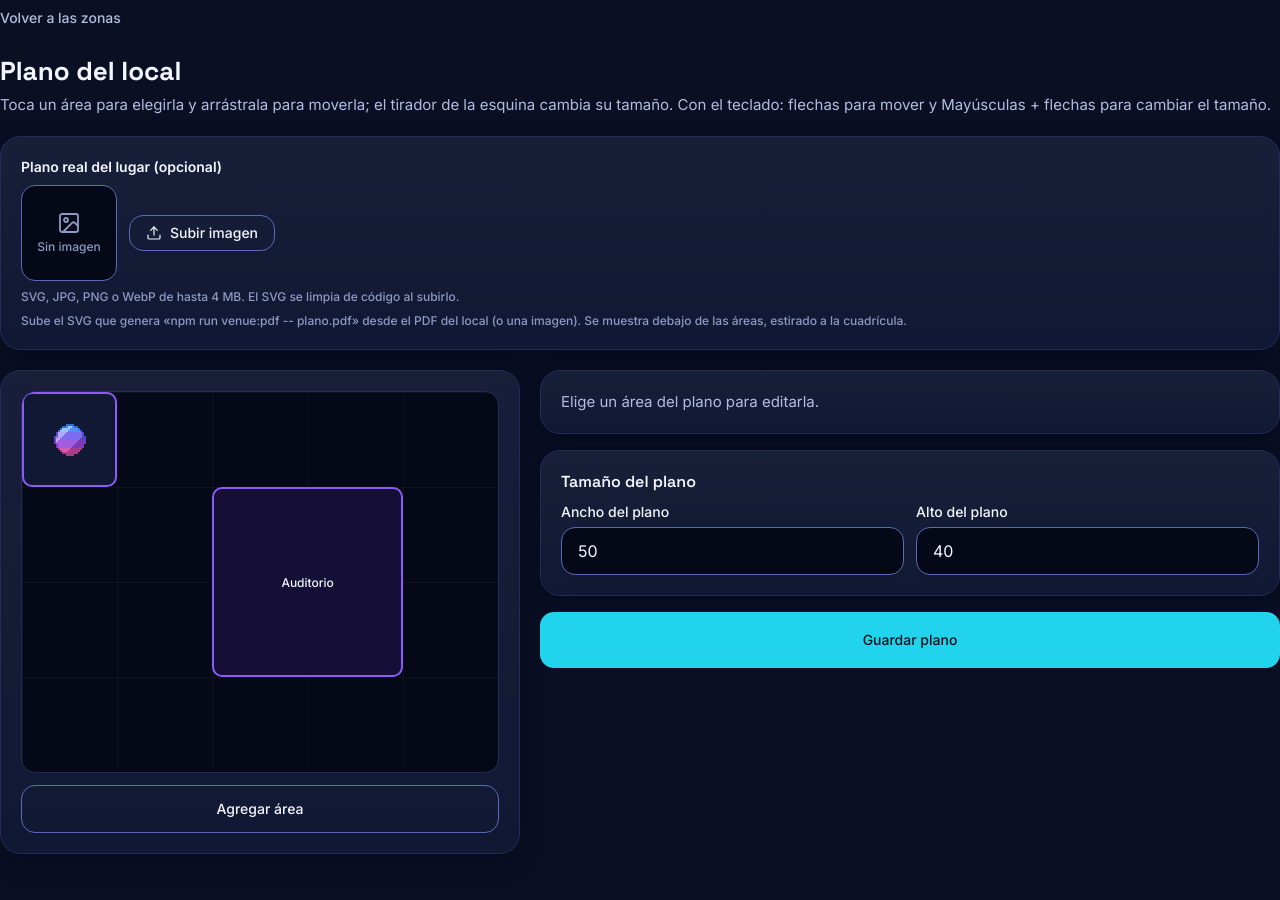
Scenario: VenueEditor › adds a stand in a free spot and chooses it, and removes an area
This screenshot has width=1280, height=900.
Click the button "Agregar área": click(260, 809) x1=21 y1=785 x2=499 y2=833
(page scrolled)
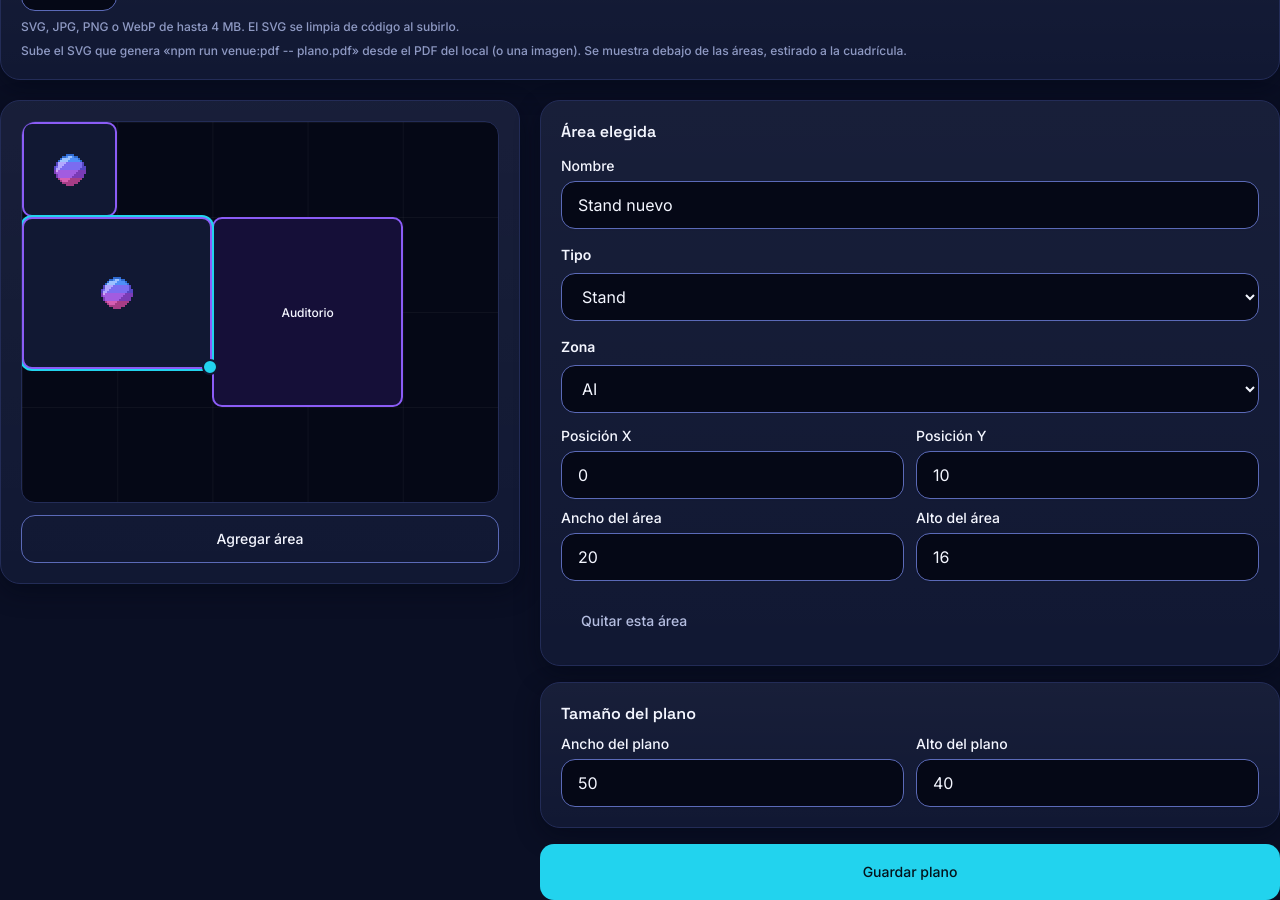
Expected: the field labelled "Nombre" holds "Stand nuevo", x1=561 y1=181 x2=1259 y2=229
Expected: the dropdown labelled "Zona" shows "AI", x1=561 y1=365 x2=1259 y2=413
Expected: the button named "Stand nuevo: Stand, posición 0, 10" is shown, x1=22 y1=217 x2=212 y2=369
Click the button "Quitar esta área": click(634, 621) x1=561 y1=597 x2=707 y2=645
(page scrolled)
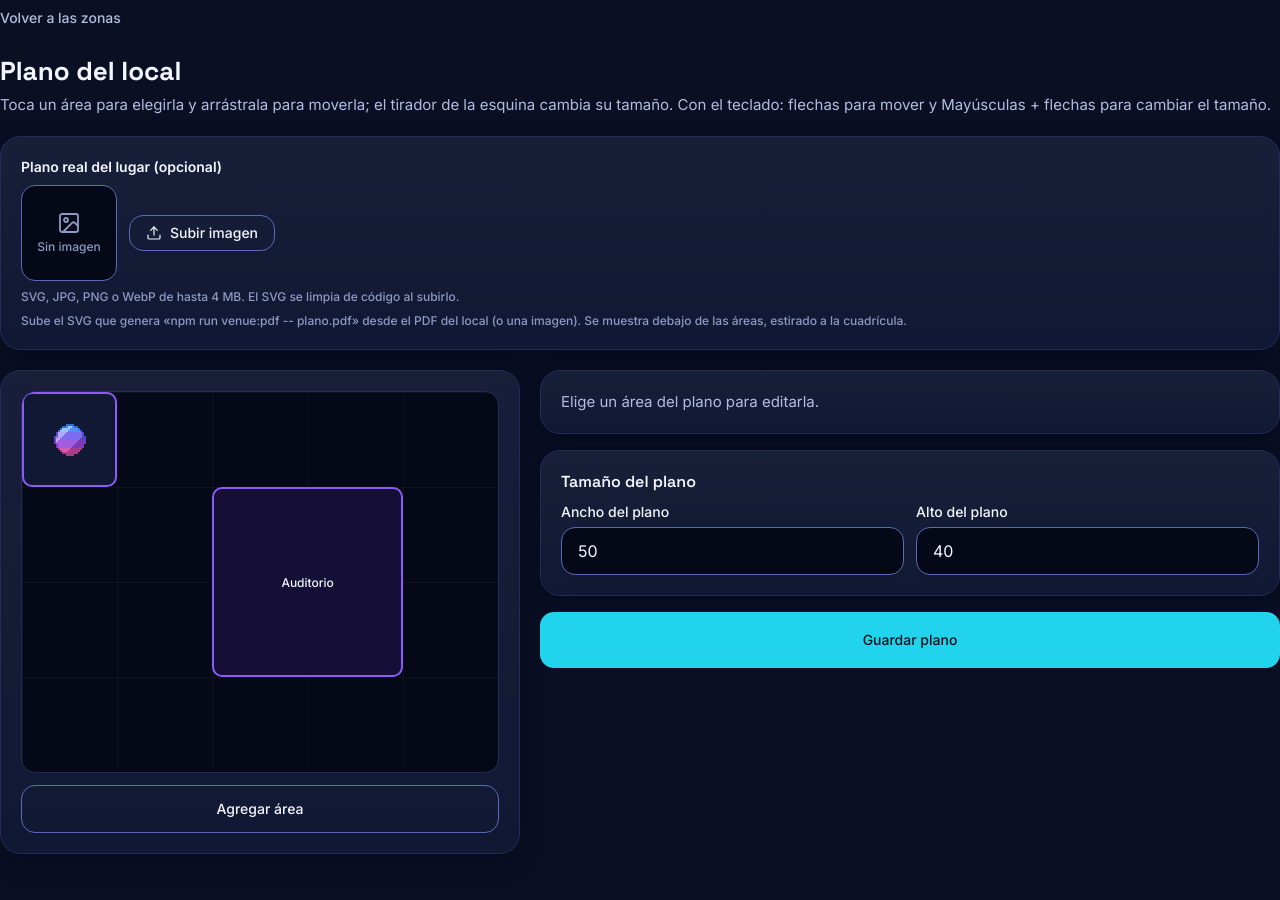
Expected: the button "Stand nuevo" is not shown
Expected: the text "Elige un área del plano para editarla." is shown, x1=561 y1=392 x2=819 y2=411
